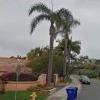Palm tree: (27, 3, 76, 71)
